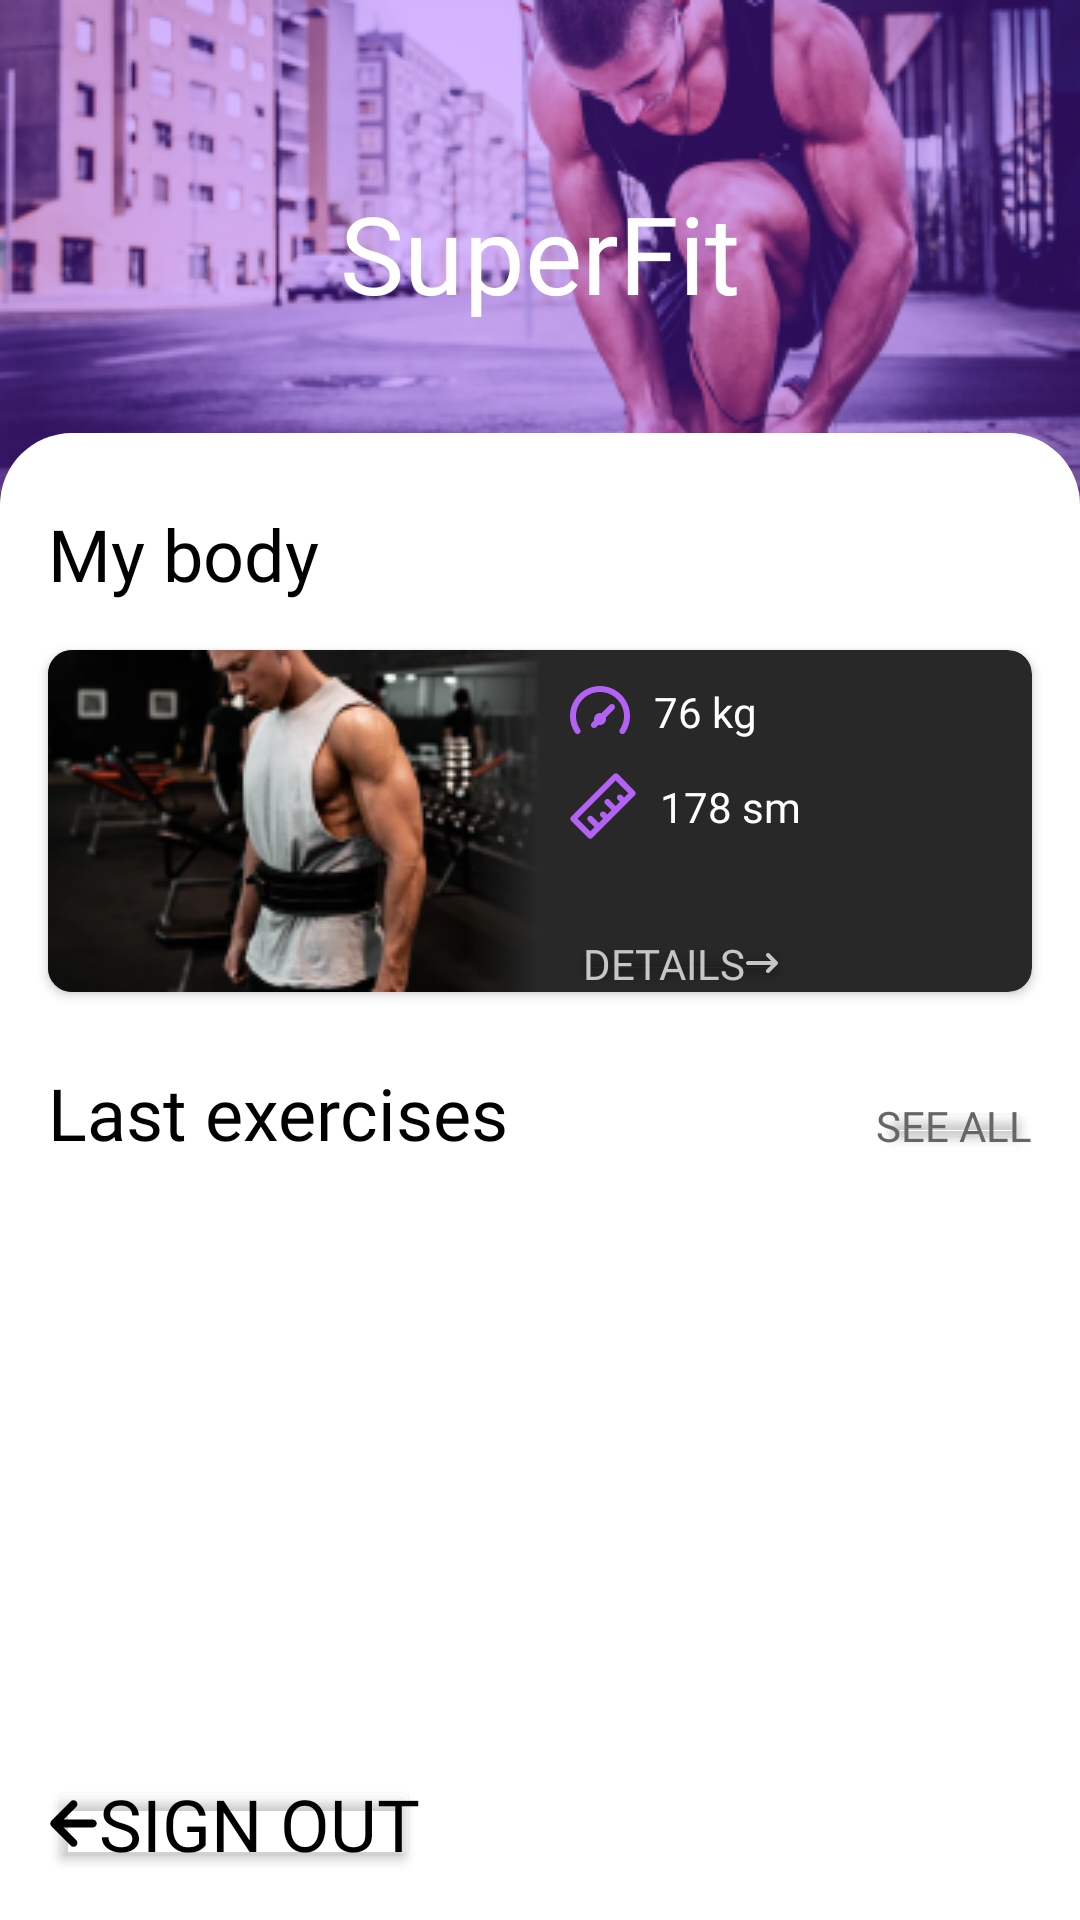

Icons on this 1080px×1920px Android screen, each with the point to tap as (x=x, y=y):
ruler: (x=603, y=806)
tachometer fast: (x=600, y=710)
